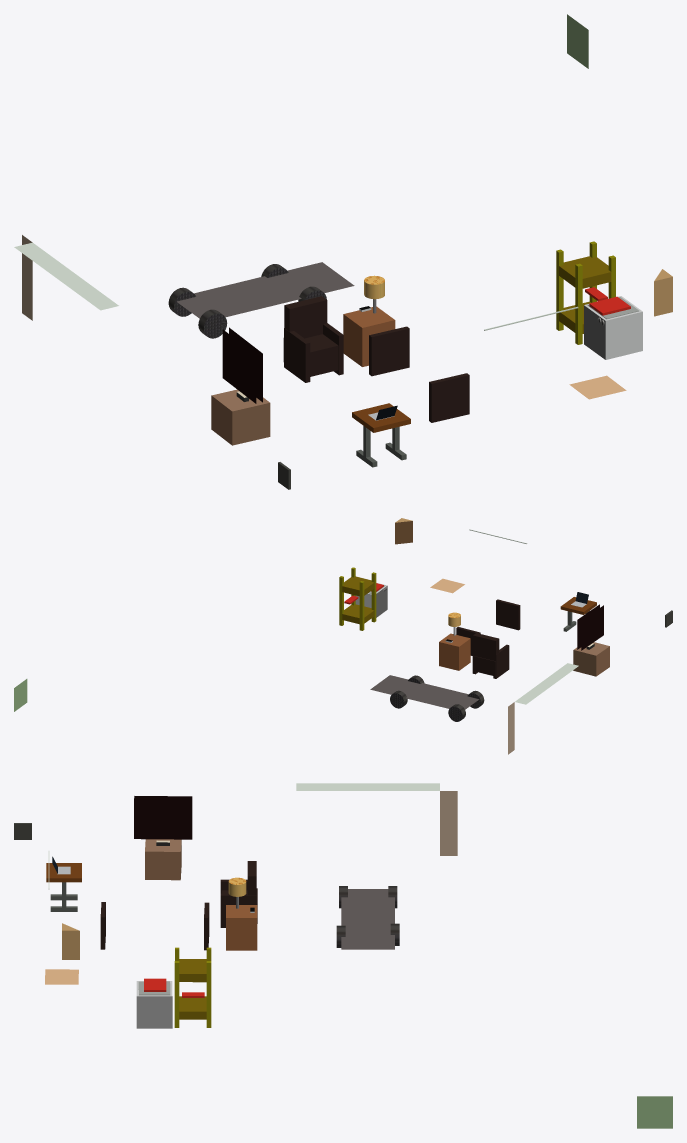
The model's file is house-kitchen-layout.glb.
The picture shows the model from 3 angles, top to bottom: view 1: azimuth 30°, elevation 25°; view 2: azimuth 150°, elevation 25°; view 3: azimuth 270°, elevation 25°; orthographic projection. The views are drawn at different scales.
Parts seen in each view (by area): view 1: KitchenHouseBaked; view 2: KitchenHouseBaked; view 3: KitchenHouseBaked.
Boxes of the visible parts, bbox=[...] form: KitchenHouseBaked: bbox=[14, 14, 672, 489]; KitchenHouseBaked: bbox=[14, 518, 672, 754]; KitchenHouseBaked: bbox=[14, 783, 672, 1128].
Bounding box in the file's own units: 74 × 11.6 × 73.5.
22 materials, 22 textured.
